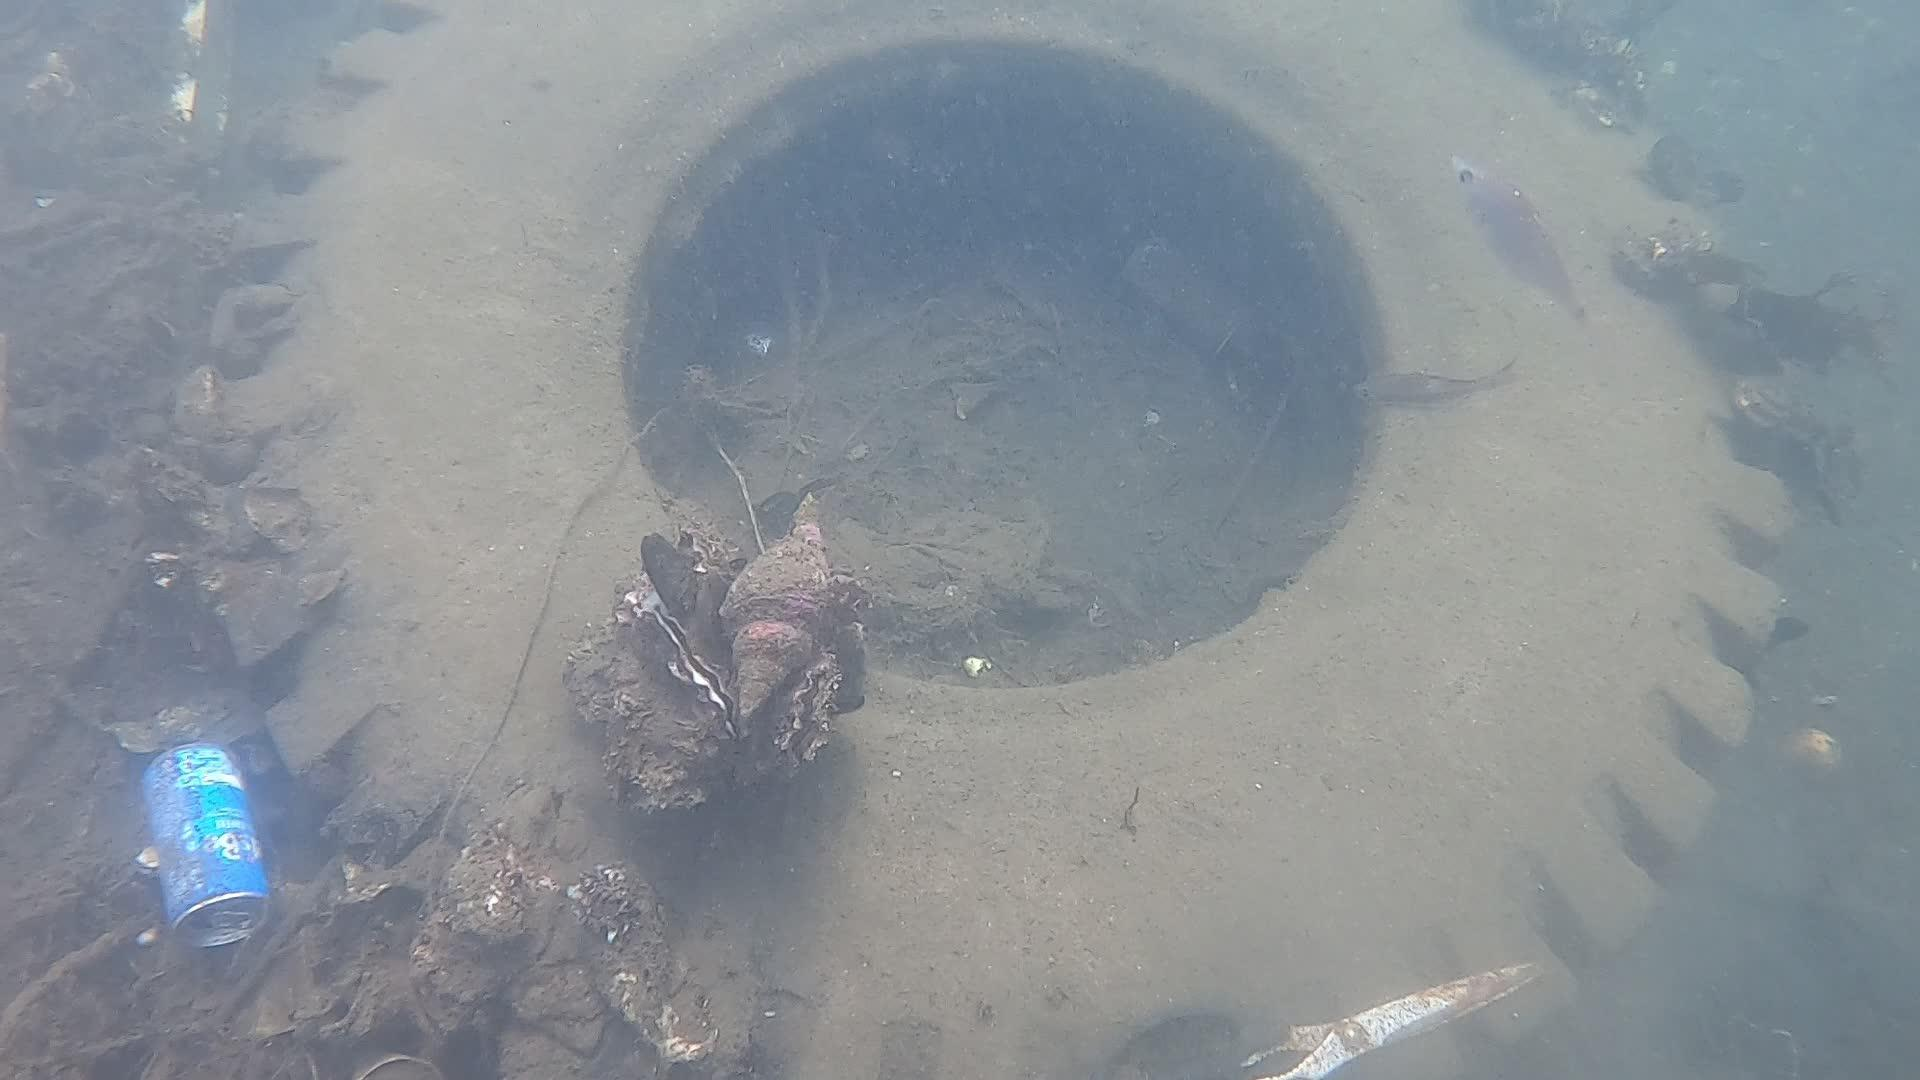tire: (198, 5, 1792, 1071)
